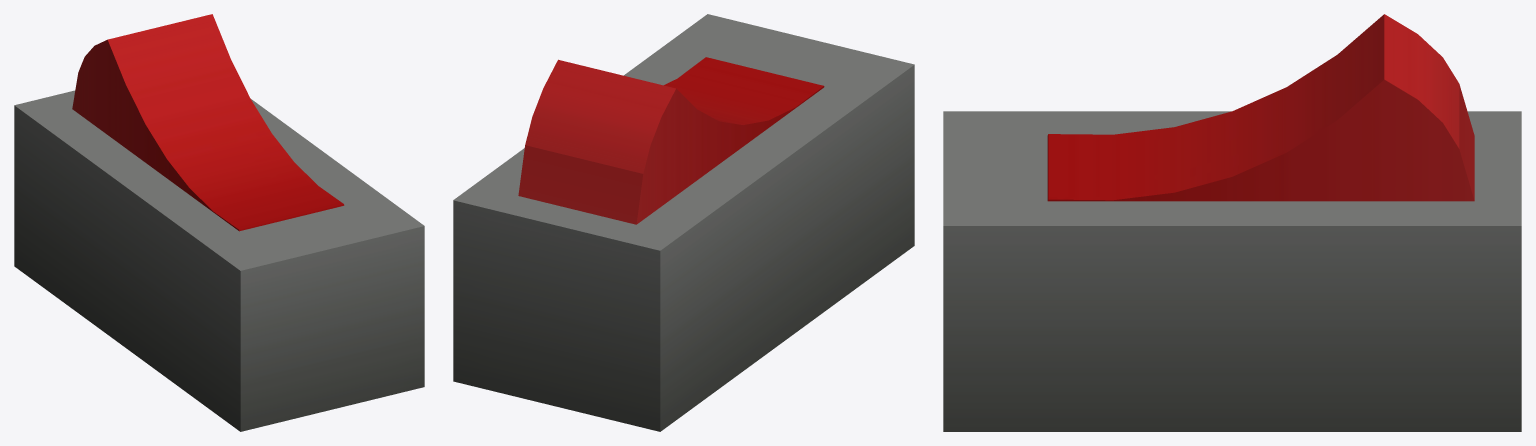
The model's file is Switch2.FBX.
3 renders of one model, left to right at view 1: azimuth 30°, elevation 25°; view 2: azimuth 150°, elevation 25°; view 3: azimuth 270°, elevation 25°, orthographic. The views are drawn at different scales.
Visible parts, largest first — view 1: Switch2; view 2: Switch2; view 3: Switch2.
Part boxes in pixels (x1=…): Switch2: x1=14, y1=14, x2=424, y2=431; Switch2: x1=453, y1=14, x2=914, y2=431; Switch2: x1=943, y1=14, x2=1521, y2=431.
Size of the model in its own units: 4.45 by 5.92 by 9.48.
